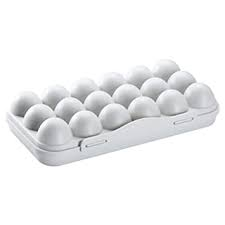eggs: (5, 62, 224, 160)
